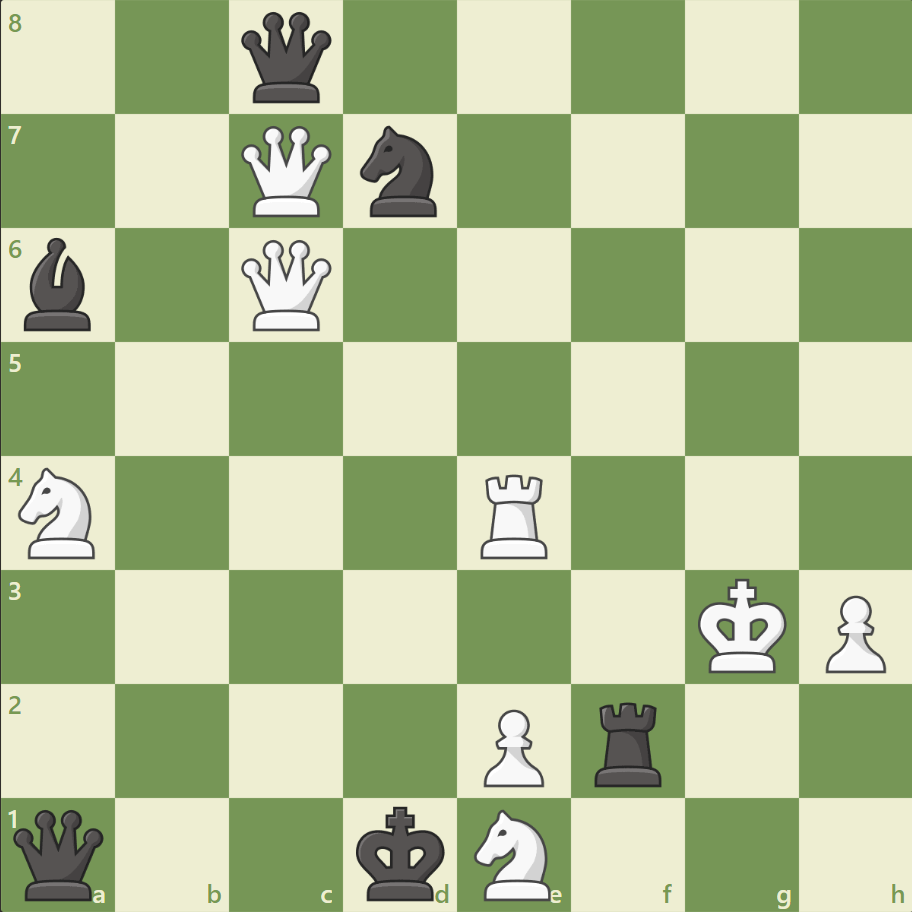K: (692, 571, 792, 679)
N: (11, 461, 108, 564), (465, 802, 562, 904)
P: (474, 700, 549, 791), (815, 586, 889, 677)
Q: (237, 122, 336, 222), (237, 236, 336, 335)
R: (473, 466, 556, 563)
b: (17, 233, 101, 336)
k: (351, 798, 451, 906)
n: (351, 121, 449, 223)
q: (237, 9, 336, 108), (10, 804, 109, 903)
r: (587, 693, 670, 790)
